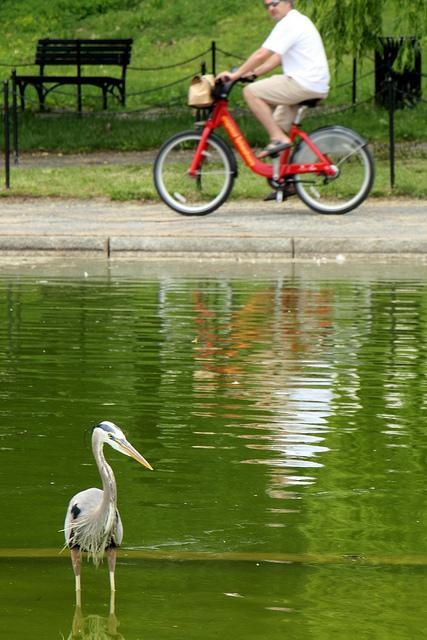bird: (57, 416, 155, 640)
person: (212, 1, 344, 202)
